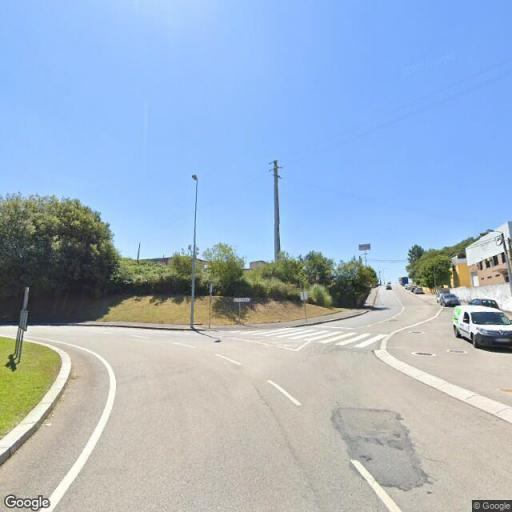mono_10: (268, 159, 285, 262)
